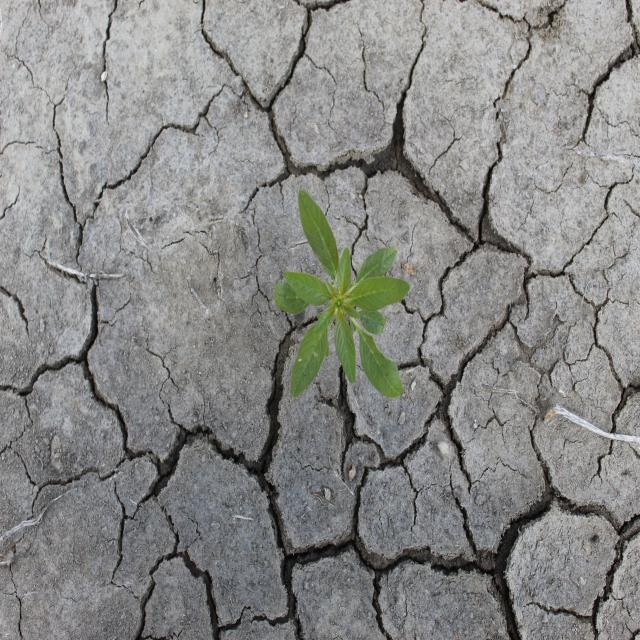Waterhemp: (273, 187, 411, 400)
